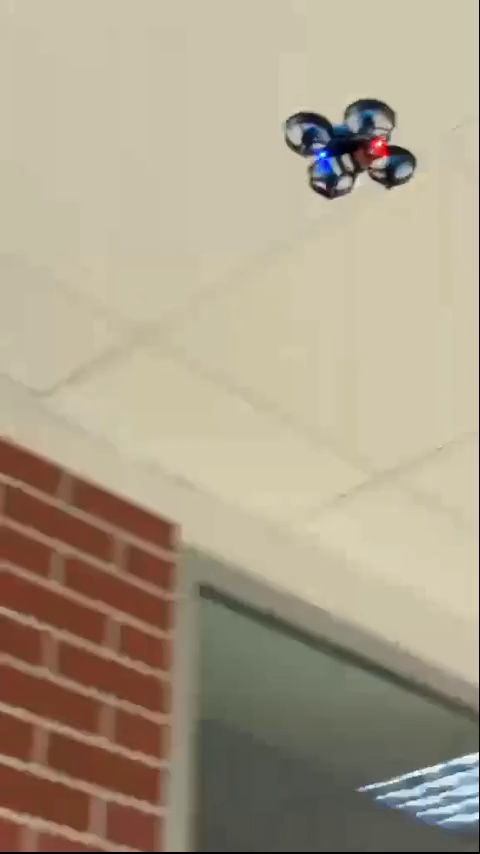drone: (277, 96, 418, 202)
